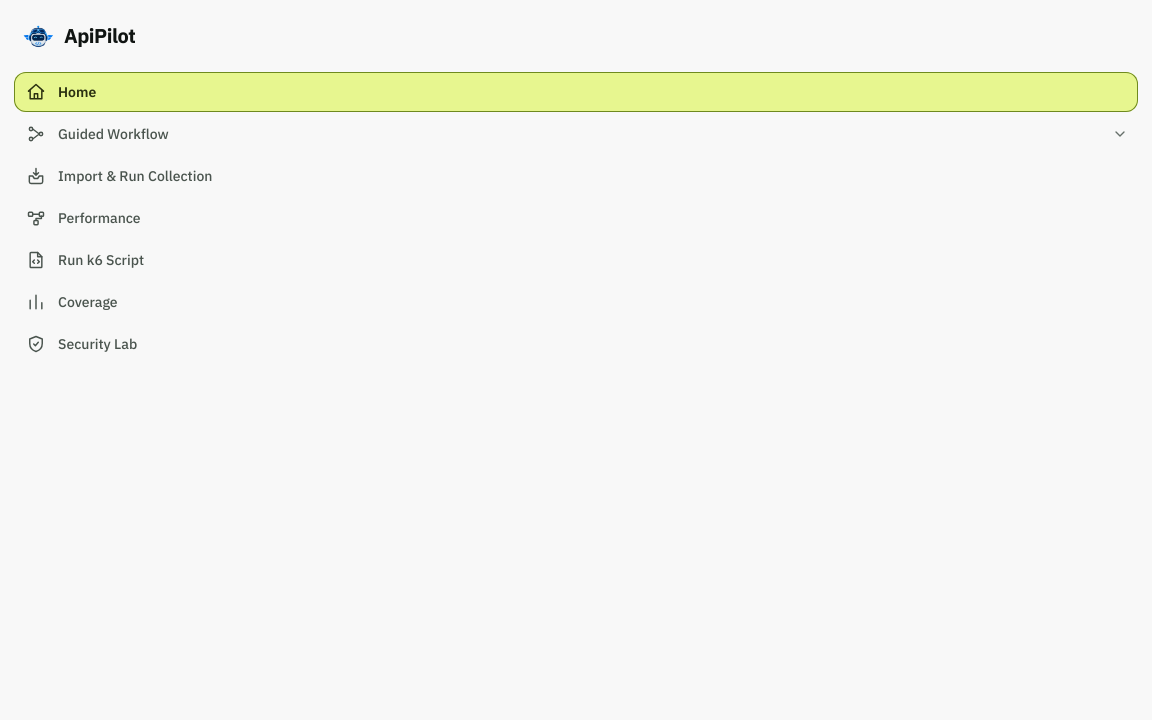
Sidebar (AP-054 FR-002, FR-003) › shows the eleven stages under Guided Workflow, grouped, behind a disclosure
The image size is (1152, 720).
Click the button named "Show Guided Workflow stages": (1120, 134) [1102,116,1138,152]
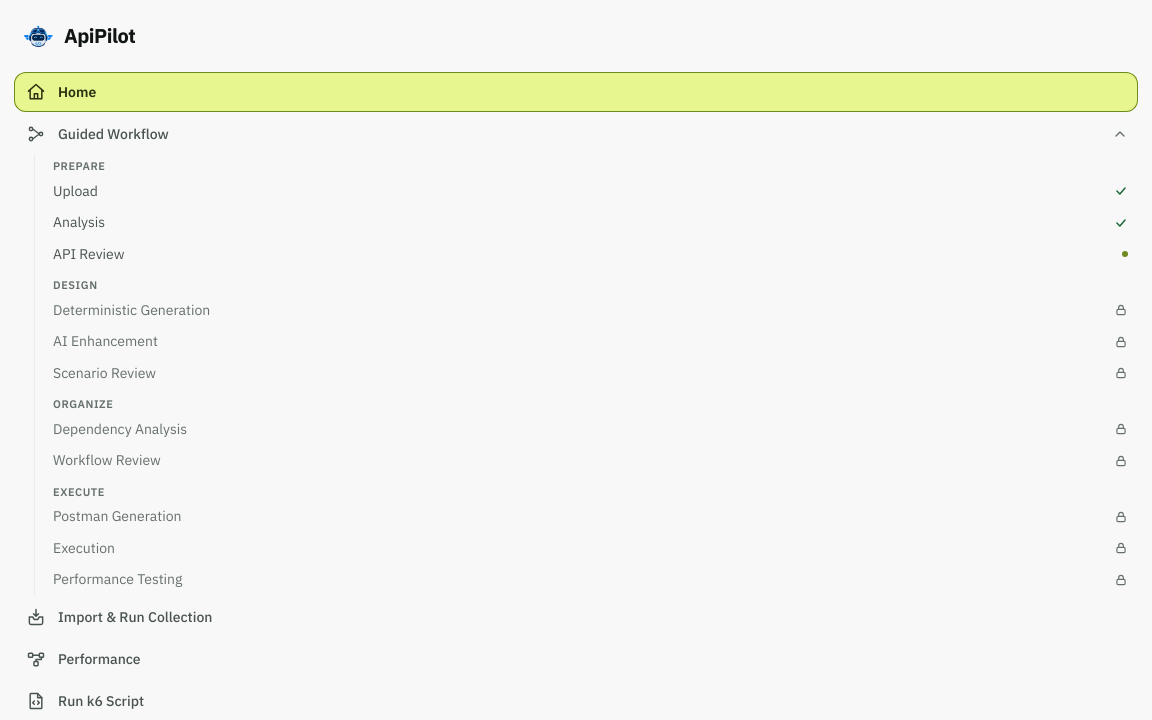
Check: the button named "Hide Guided Workflow stages" is expanded, box [1102,116,1138,152]
Check: the headings read "Prepare", "Design", "Organize", "Execute", in this order, box [53,159,106,173]; [53,278,98,292]; [53,397,113,411]; [53,484,105,498]
